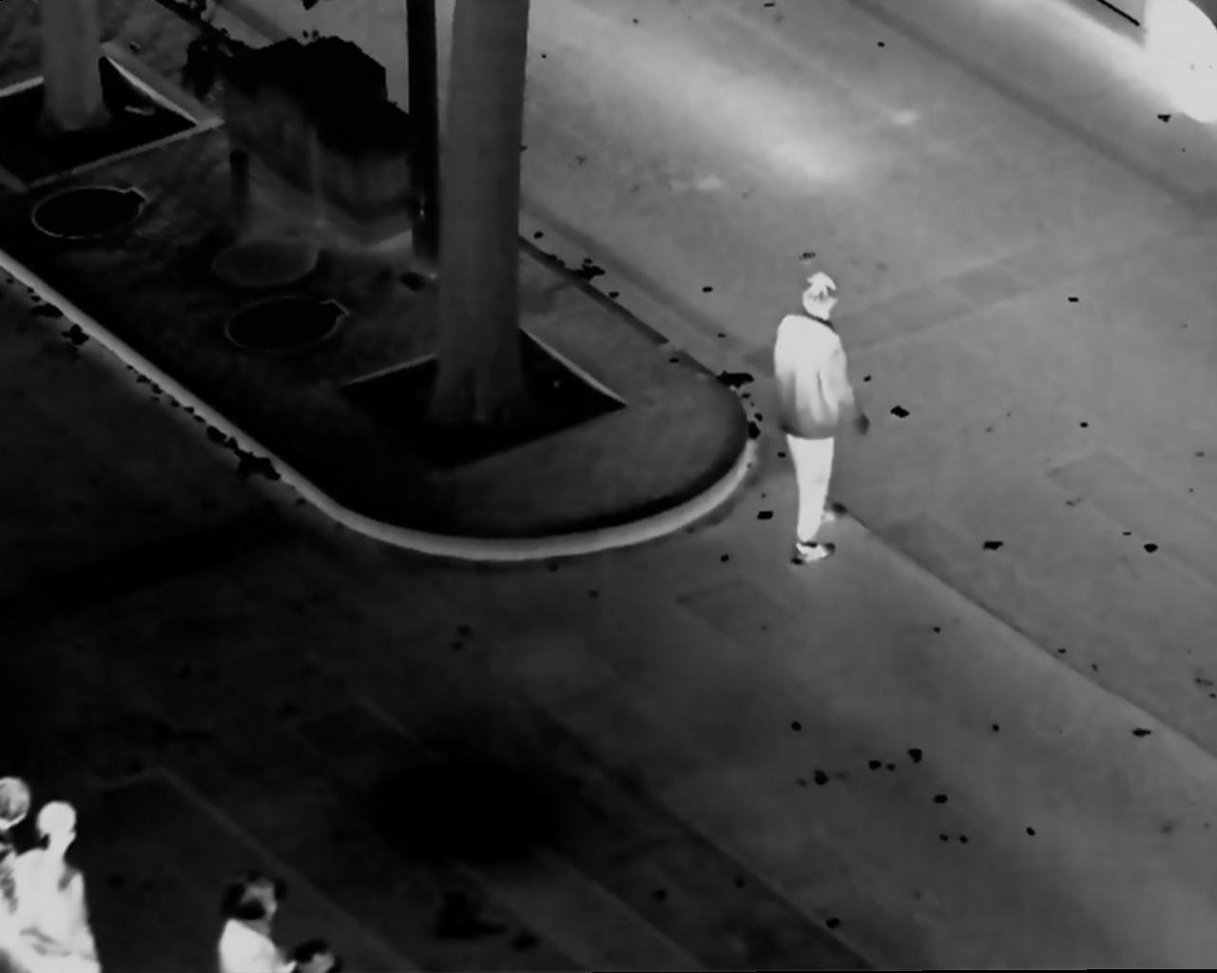person: (777, 268, 858, 579), (10, 797, 111, 973), (215, 868, 329, 973), (3, 765, 34, 845)
